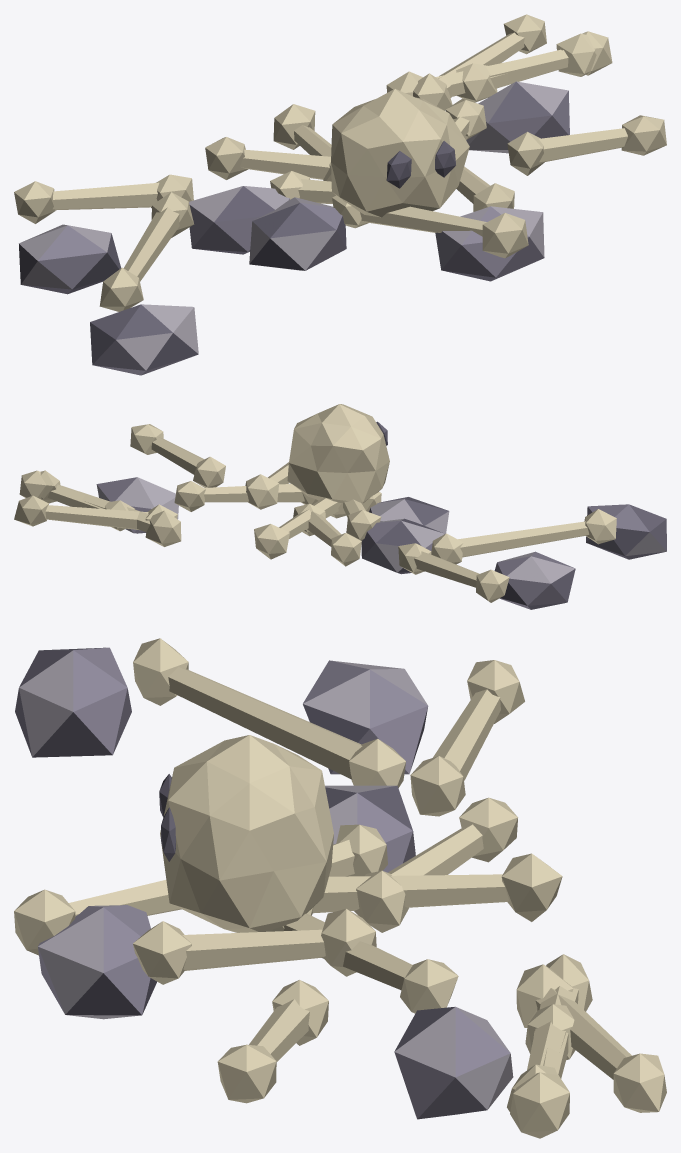
Rendered from bone_pile_rubble.glb.
The picture shows the model from 3 angles, top to bottom: view 1: azimuth 30°, elevation 25°; view 2: azimuth 150°, elevation 25°; view 3: azimuth 270°, elevation 25°; orthographic projection. The views are drawn at different scales.
Parts seen in each view (by area): view 1: bone_pile_rubble; view 2: bone_pile_rubble; view 3: bone_pile_rubble.
Part boxes in pixels (box(x1,y1,x2,y2)): bone_pile_rubble: box(14, 14, 666, 375); bone_pile_rubble: box(14, 404, 666, 609); bone_pile_rubble: box(14, 638, 666, 1138).
Size of the model in its own units: 1.97 by 0.4707 by 1.11.
